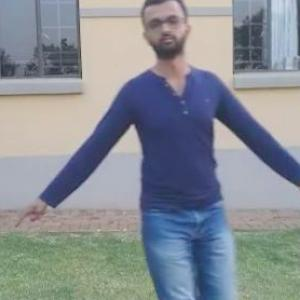land: (72, 32, 292, 299)
